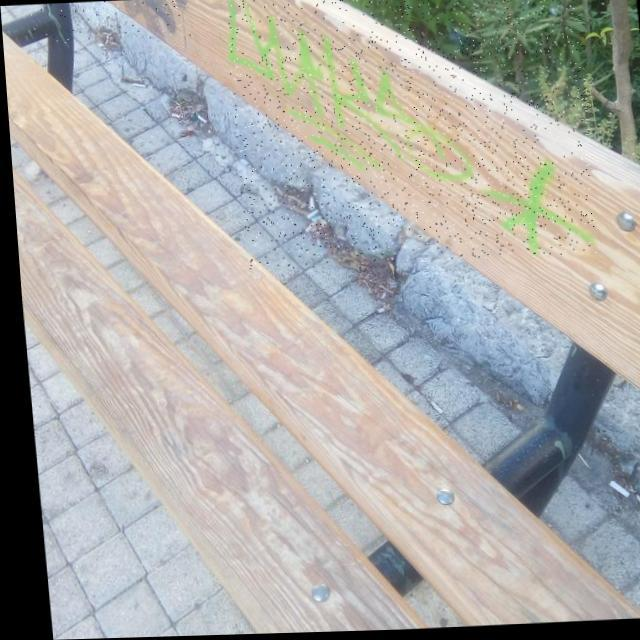-: (222, 0, 593, 271), (29, 0, 192, 44)
